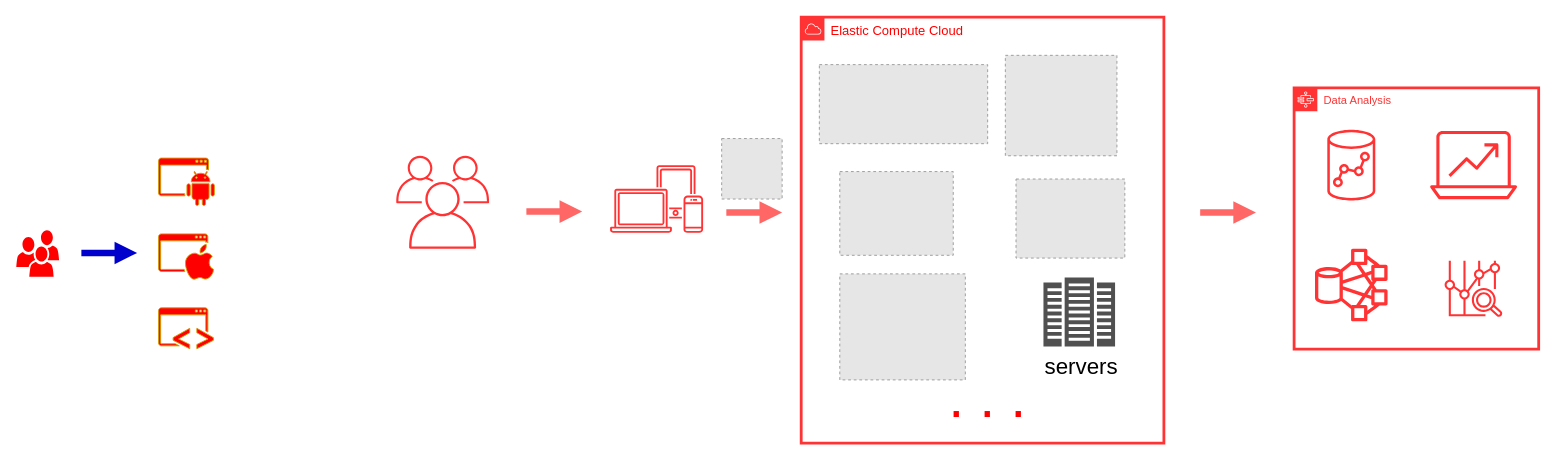
This 1556x460 diagram has some shape labels left out. Grey dashed boxes stand in for pictures. The centre of each missing label's shape, as x and y in pixels:
devices: the point at 656,198
users: the point at 442,201
